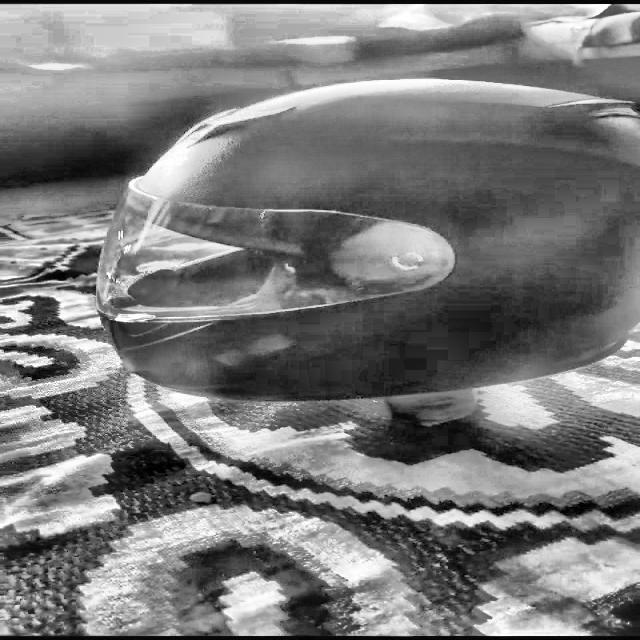Helmet: (96, 72, 640, 404)
